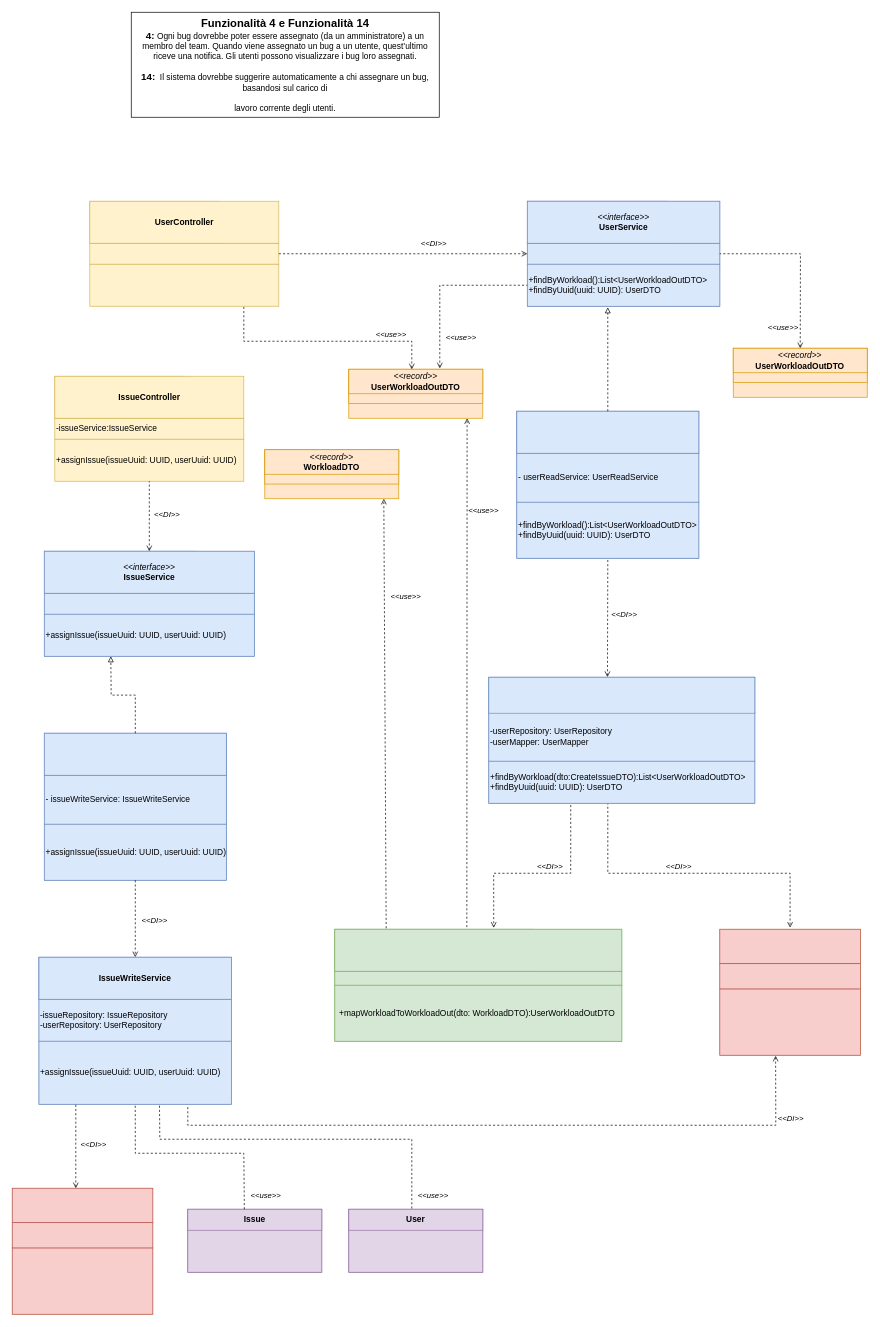
Image size: 880x1327. Some labels were removed from this diagram. Each missing label, with the centre of its shape:
"+findByWorkload():List<UserWorkloadOutDTO>" belongs at (184,285).
"-userService:UserService" belongs at (184,253).
"<<interface>> IssueRepository" belongs at (789,946).
"<<interface>> UserRepository" belongs at (82,1205).
"IssueServiceImpl" belongs at (135,754).
"UserMapper" belongs at (478,950).
"UserReadService" belongs at (621,695).
"UserServiceImpl" belongs at (607,432).
